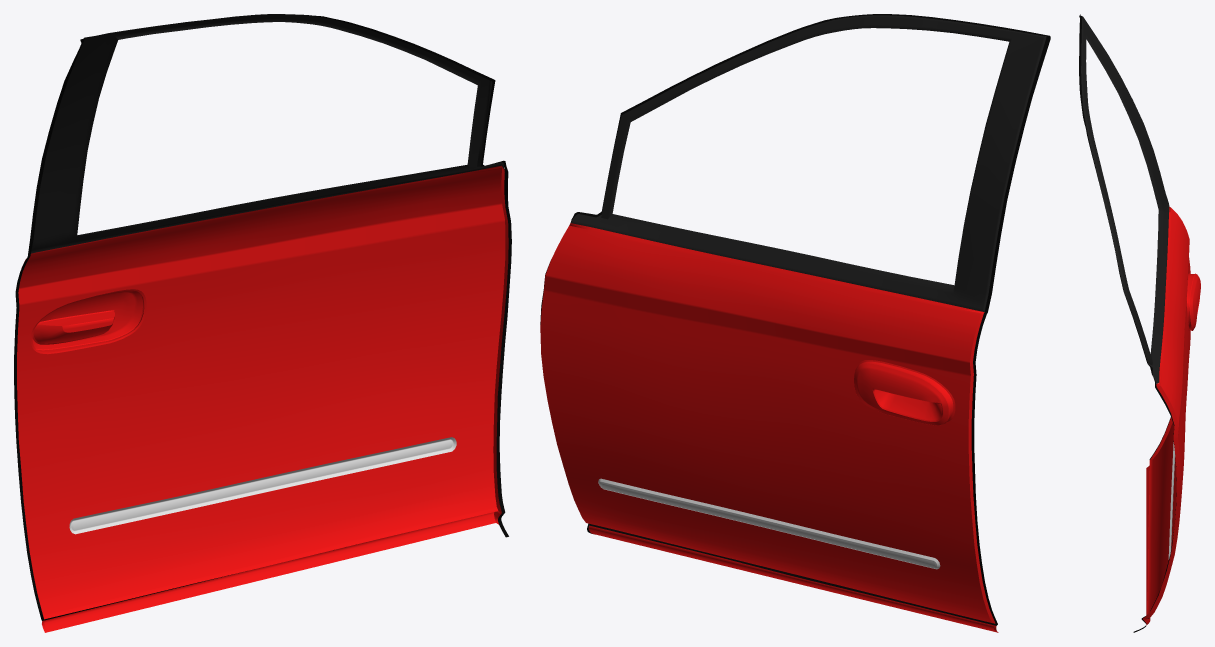
3 renders of one model, left to right at view 1: azimuth 30°, elevation 25°; view 2: azimuth 150°, elevation 25°; view 3: azimuth 270°, elevation 25°, orthographic. The views are drawn at different scales.
Parts seen in each view (by area): view 1: N664_9A_261B_L_1_DaS_N664_9A_261B_L, N664_9A_261B_L_N664_9A_261B_L_2_D, N664_9A_261B_L_N664_9A_261B_L_3_DaS, N664_9A_261B_L_N664_9A_261B_L_4_D, N664_9A_261B_L_1_DaS_N664_9A_261B_L_E; view 2: N664_9A_261B_L_1_DaS_N664_9A_261B_L, N664_9A_261B_L_N664_9A_261B_L_2_D, N664_9A_261B_L_N664_9A_261B_L_4_D, N664_9A_261B_L_N664_9A_261B_L_3_DaS, N664_9A_261B_L_1_DaS_N664_9A_261B_L_E; view 3: N664_9A_261B_L_1_DaS_N664_9A_261B_L, N664_9A_261B_L_N664_9A_261B_L_2_D, N664_9A_261B_L_1_DaS_N664_9A_261B_L_E, N664_9A_261B_L_N664_9A_261B_L_4_D, N664_9A_261B_L_N664_9A_261B_L_3_DaS.
Part boxes in pixels (x1,y1,x2,y2): N664_9A_261B_L_1_DaS_N664_9A_261B_L: [17, 167, 505, 631]; N664_9A_261B_L_N664_9A_261B_L_2_D: [31, 14, 503, 253]; N664_9A_261B_L_N664_9A_261B_L_3_DaS: [69, 437, 456, 534]; N664_9A_261B_L_N664_9A_261B_L_4_D: [14, 14, 511, 620]; N664_9A_261B_L_1_DaS_N664_9A_261B_L_E: [21, 165, 508, 632]; N664_9A_261B_L_1_DaS_N664_9A_261B_L: [540, 225, 995, 631]; N664_9A_261B_L_N664_9A_261B_L_2_D: [570, 15, 1046, 311]; N664_9A_261B_L_N664_9A_261B_L_4_D: [540, 14, 1050, 625]; N664_9A_261B_L_N664_9A_261B_L_3_DaS: [598, 478, 940, 569]; N664_9A_261B_L_1_DaS_N664_9A_261B_L_E: [569, 223, 998, 632]; N664_9A_261B_L_1_DaS_N664_9A_261B_L: [1146, 207, 1200, 619]; N664_9A_261B_L_N664_9A_261B_L_2_D: [1081, 16, 1169, 383]; N664_9A_261B_L_1_DaS_N664_9A_261B_L_E: [1143, 206, 1199, 624]; N664_9A_261B_L_N664_9A_261B_L_4_D: [1079, 14, 1176, 632]; N664_9A_261B_L_N664_9A_261B_L_3_DaS: [1168, 442, 1175, 559].
Bounding box in the file's own units: 109 × 133 × 32.22.
